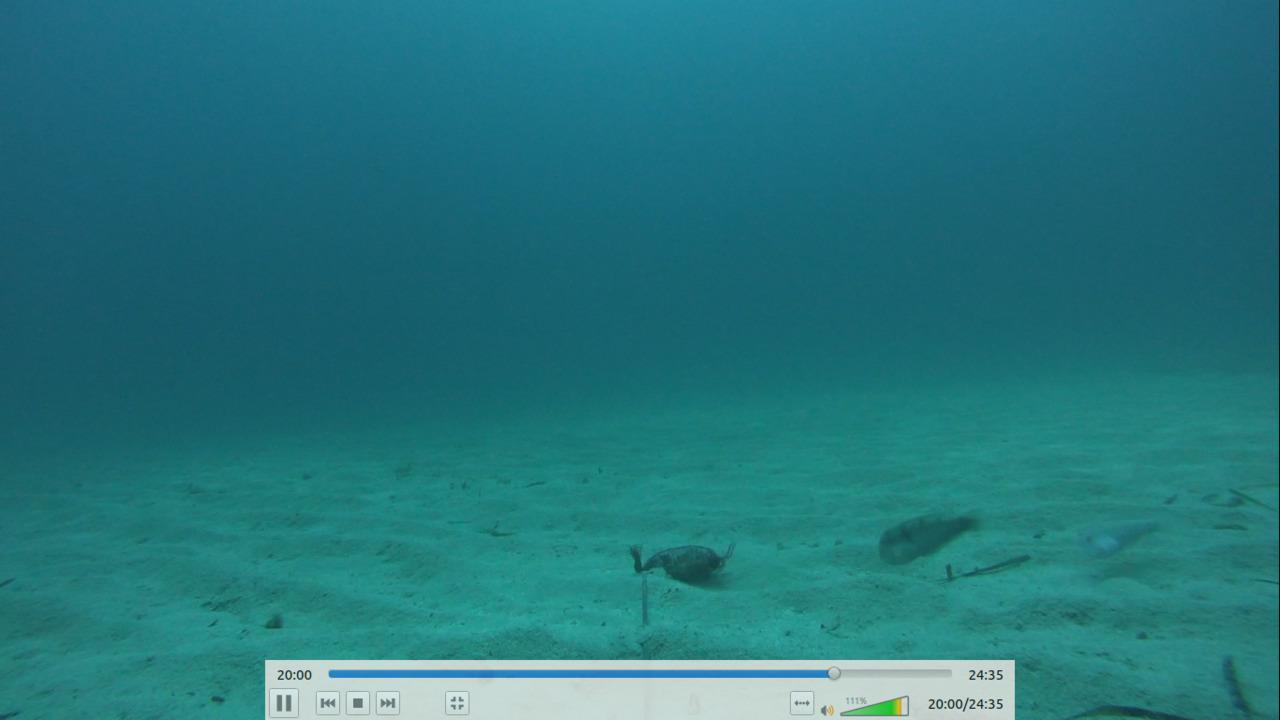raor: (877, 505, 980, 567), (1080, 518, 1163, 560)
